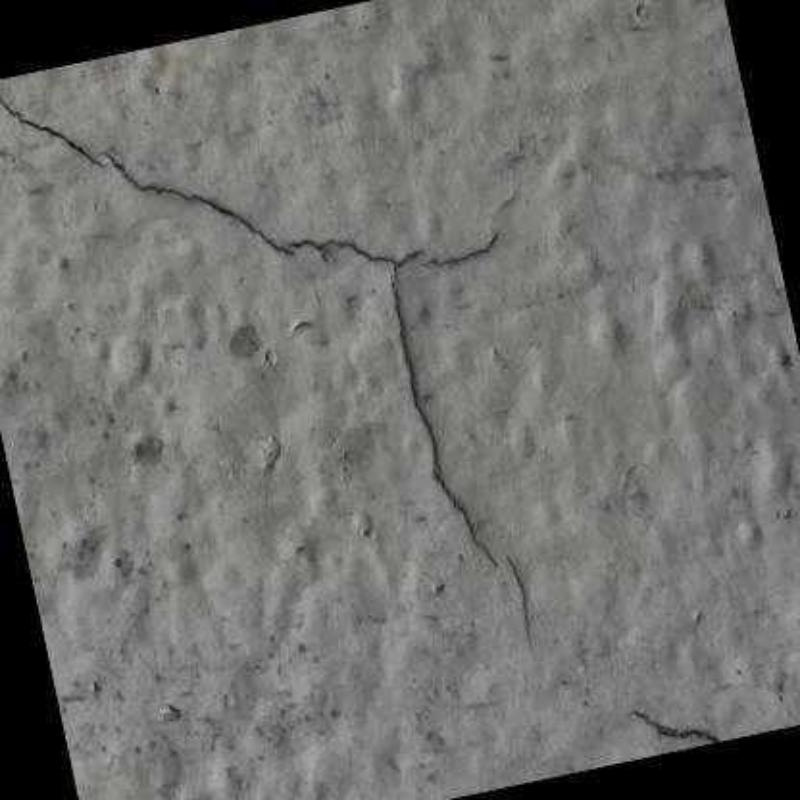pothole: (0, 88, 499, 581), (627, 705, 738, 746), (507, 554, 534, 646), (427, 231, 500, 265), (396, 248, 425, 267)
